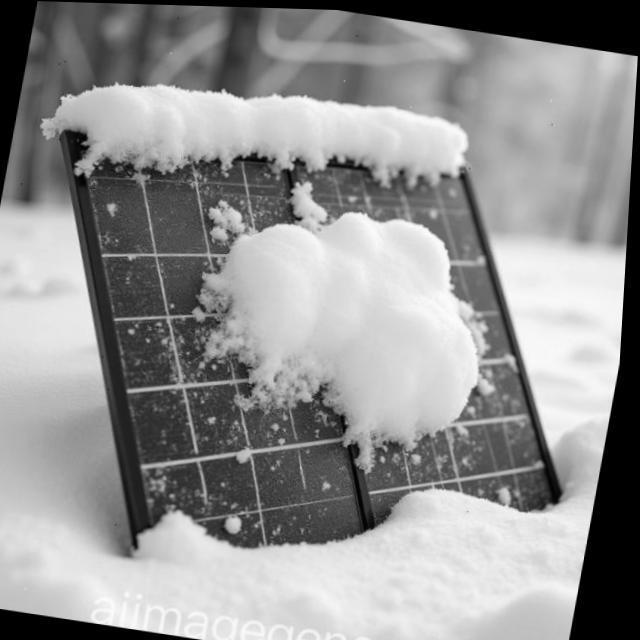Anomaly Solar Panel: (72, 31, 571, 584)
Snow: (143, 150, 545, 493), (157, 449, 573, 578), (45, 79, 472, 185), (236, 439, 261, 467), (227, 508, 251, 532)
